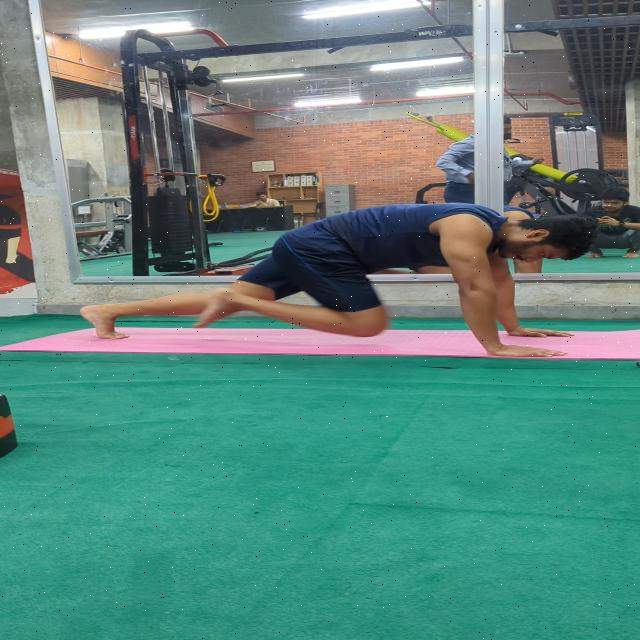Normal_MountainClimbers: (38, 186, 606, 368)
